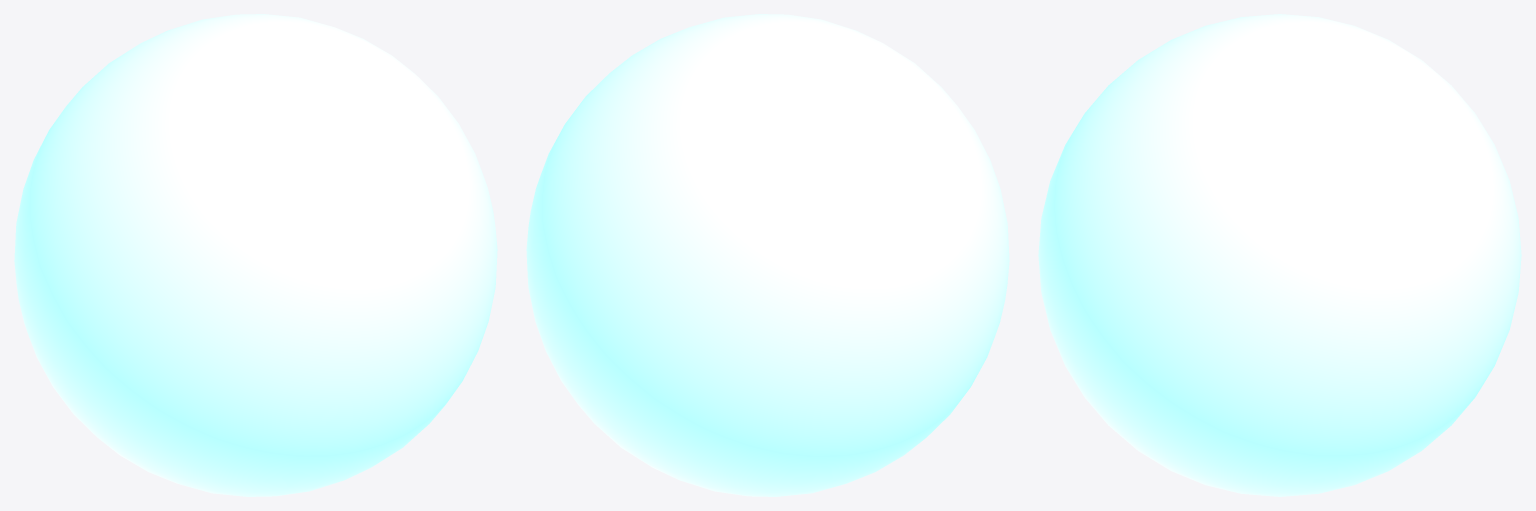
File: boss.glb
3 renders of one model, left to right at view 1: azimuth 30°, elevation 25°; view 2: azimuth 150°, elevation 25°; view 3: azimuth 270°, elevation 25°, orthographic.
Parts seen in each view (by area): view 1: Shield; view 2: Shield; view 3: Shield.
Part boxes in pixels (x1,y1,x2,y2): Shield: (14,14,497,496); Shield: (526,14,1009,496); Shield: (1038,14,1521,496).
Bounding box in the file's own units: 11.2 × 11.2 × 11.2.
